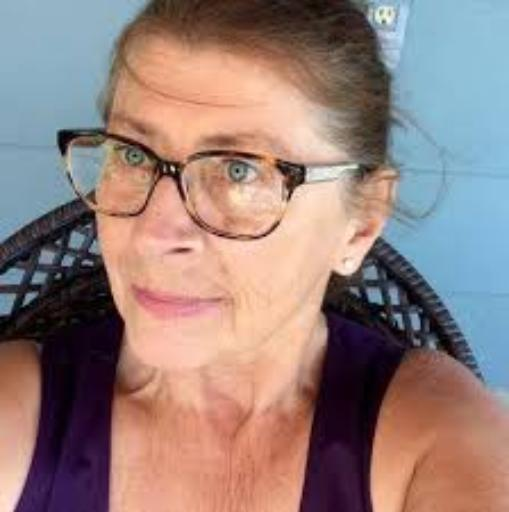left_eye: (210, 157, 261, 189)
left_lip_corner: (210, 292, 237, 313)
right_eye: (111, 145, 156, 171)
right_lip_corner: (127, 278, 144, 299)
